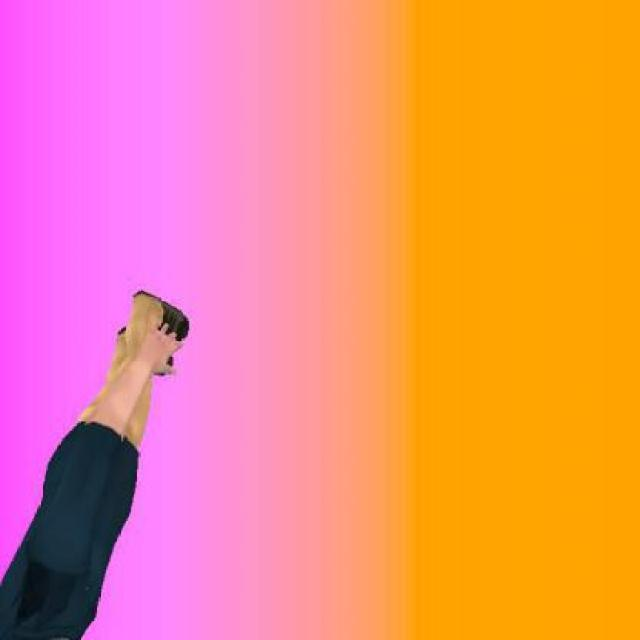Person: (0, 287, 195, 638)
